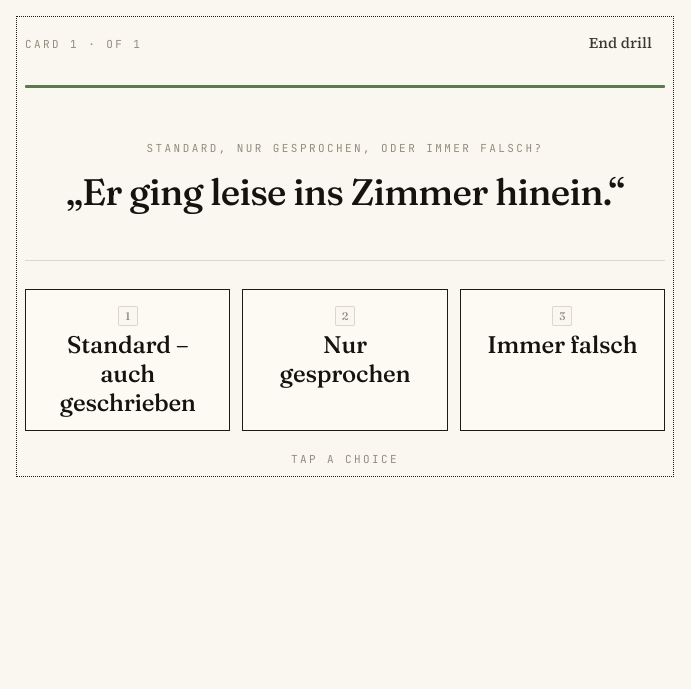
Test: RegisterRunner — reveal (always shown, win or lose) › reveals the explanation after a wrong pick
Click the button with class "choice" showing "2 Nur gesprochen" at x=345, y=360, box [242,289,448,431]
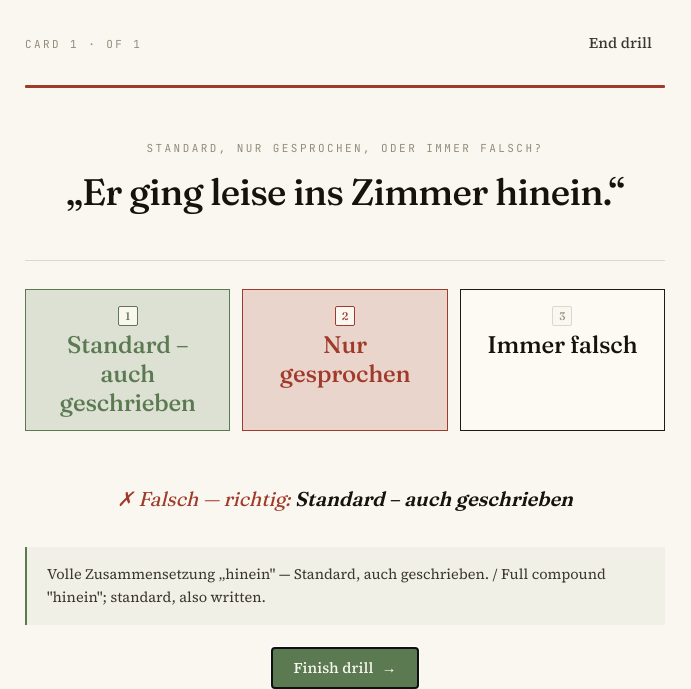
Result: the element with class "reveal" is shown at [25,547,665,625]
Result: the element with class "reveal" shows "Volle Zusammensetzun" at [47,564,606,607]
